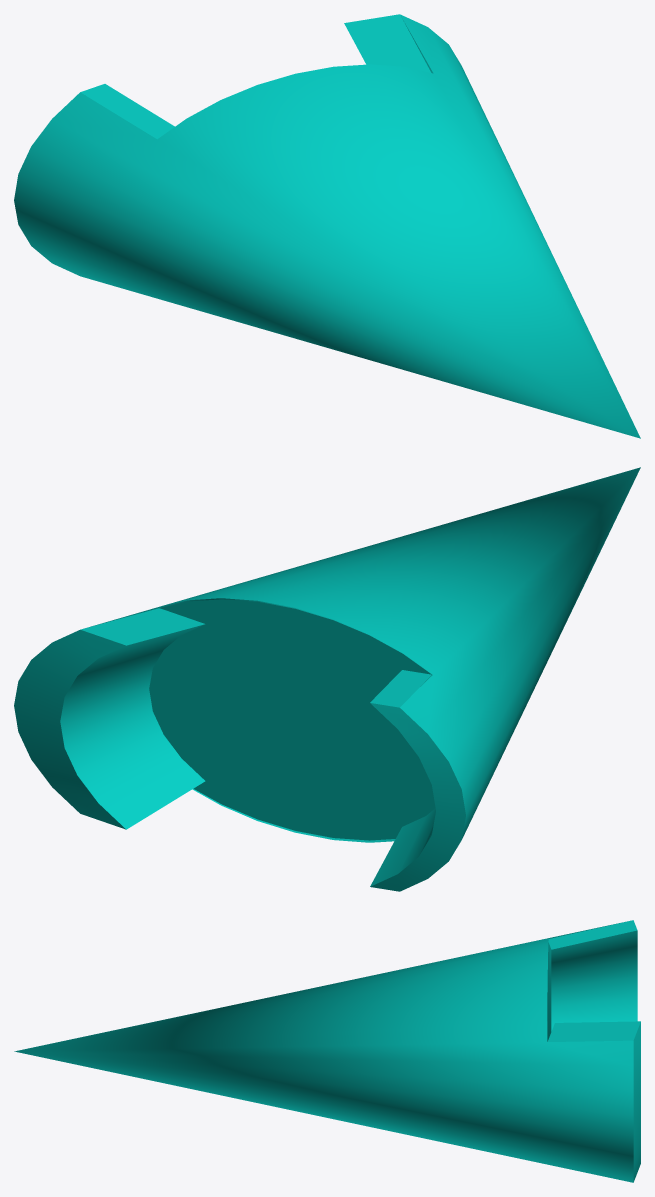
The model's file is ship.fbx.
3 renders of one model, top to bottom at view 1: azimuth 30°, elevation 25°; view 2: azimuth 150°, elevation 25°; view 3: azimuth 270°, elevation 25°, orthographic. The views are drawn at different scales.
Parts seen in each view (by area): view 1: Cone; view 2: Cone; view 3: Cone.
Boxes of the visible parts, x1,y1,x2,y2 form: Cone: [14, 14, 640, 438]; Cone: [14, 467, 640, 891]; Cone: [14, 920, 640, 1182].
Size of the model in its own units: 200 by 94.88 by 311.
